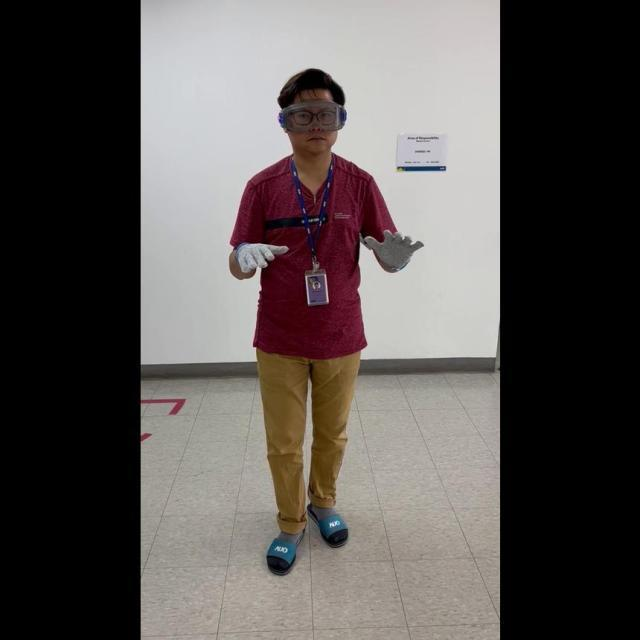gloved_hand: (361, 223, 422, 272), (230, 234, 287, 278)
